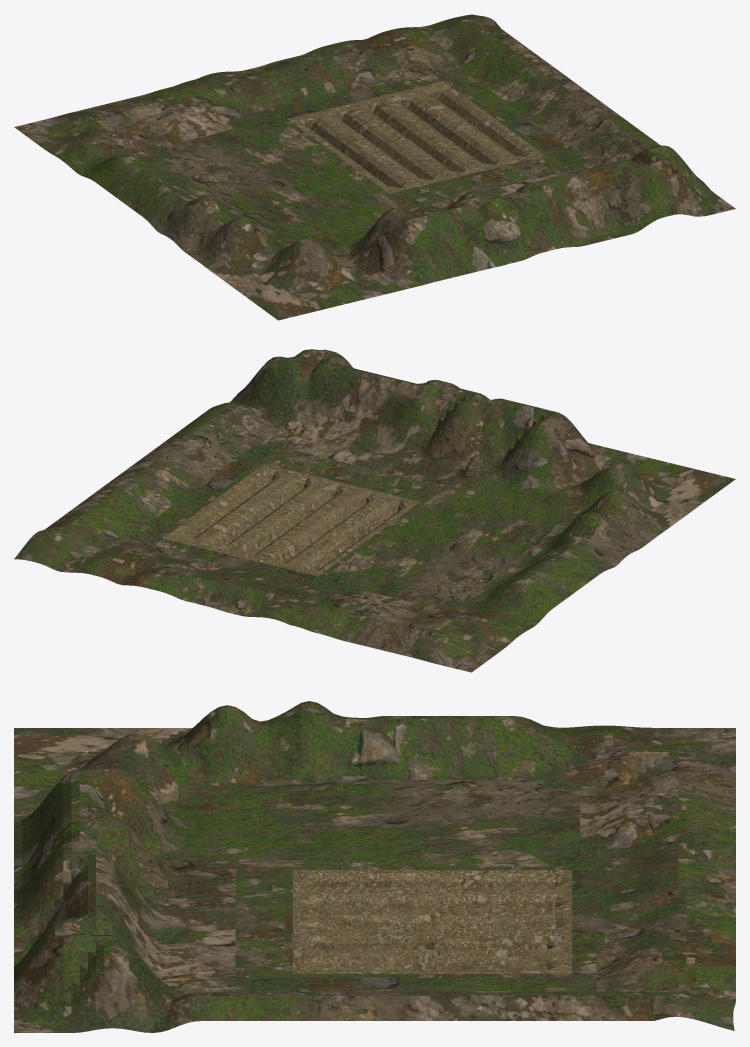
File: farm_terrain.dae
The picture shows the model from 3 angles, top to bottom: view 1: azimuth 30°, elevation 25°; view 2: azimuth 150°, elevation 25°; view 3: azimuth 270°, elevation 25°; orthographic projection. The views are drawn at different scales.
Parts seen in each view (by area): view 1: Plane; view 2: Plane; view 3: Plane.
Boxes of the visible parts, left/top/right/bottom form: Plane: left=14, top=14, right=735, bottom=320; Plane: left=14, top=349, right=735, bottom=672; Plane: left=14, top=701, right=735, bottom=1032.
Size of the model in its own units: 14.41 by 14.41 by 1.8.
Materials: 2 (2 with a texture image).
